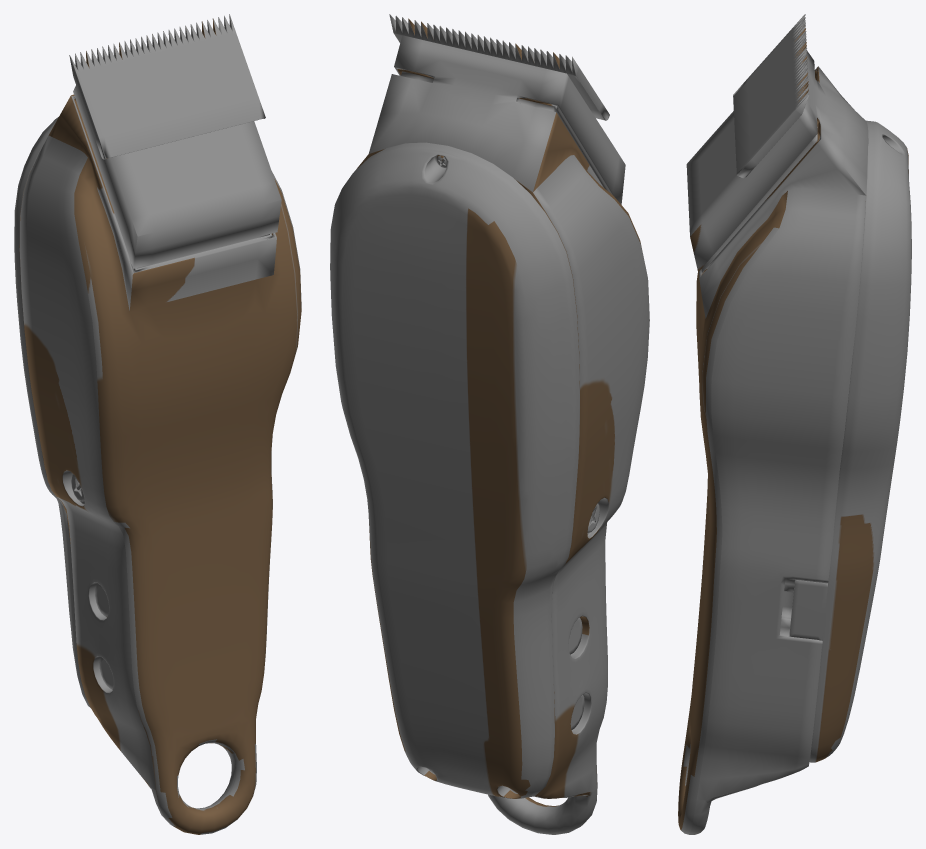
The model's file is Rasoio nuovo.fbx.
The picture shows the model from 3 angles, left to right: view 1: azimuth 30°, elevation 25°; view 2: azimuth 150°, elevation 25°; view 3: azimuth 270°, elevation 25°; orthographic projection. The views are drawn at different scales.
Parts seen in each view (by area): view 1: Default_2; view 2: Default_2; view 3: Default_2.
Part boxes in pixels (x1,y1,x2,y2): Default_2: [14, 14, 301, 834]; Default_2: [330, 14, 649, 834]; Default_2: [678, 14, 911, 834].
Size of the model in its own units: 6.15 by 20.54 by 5.62.
